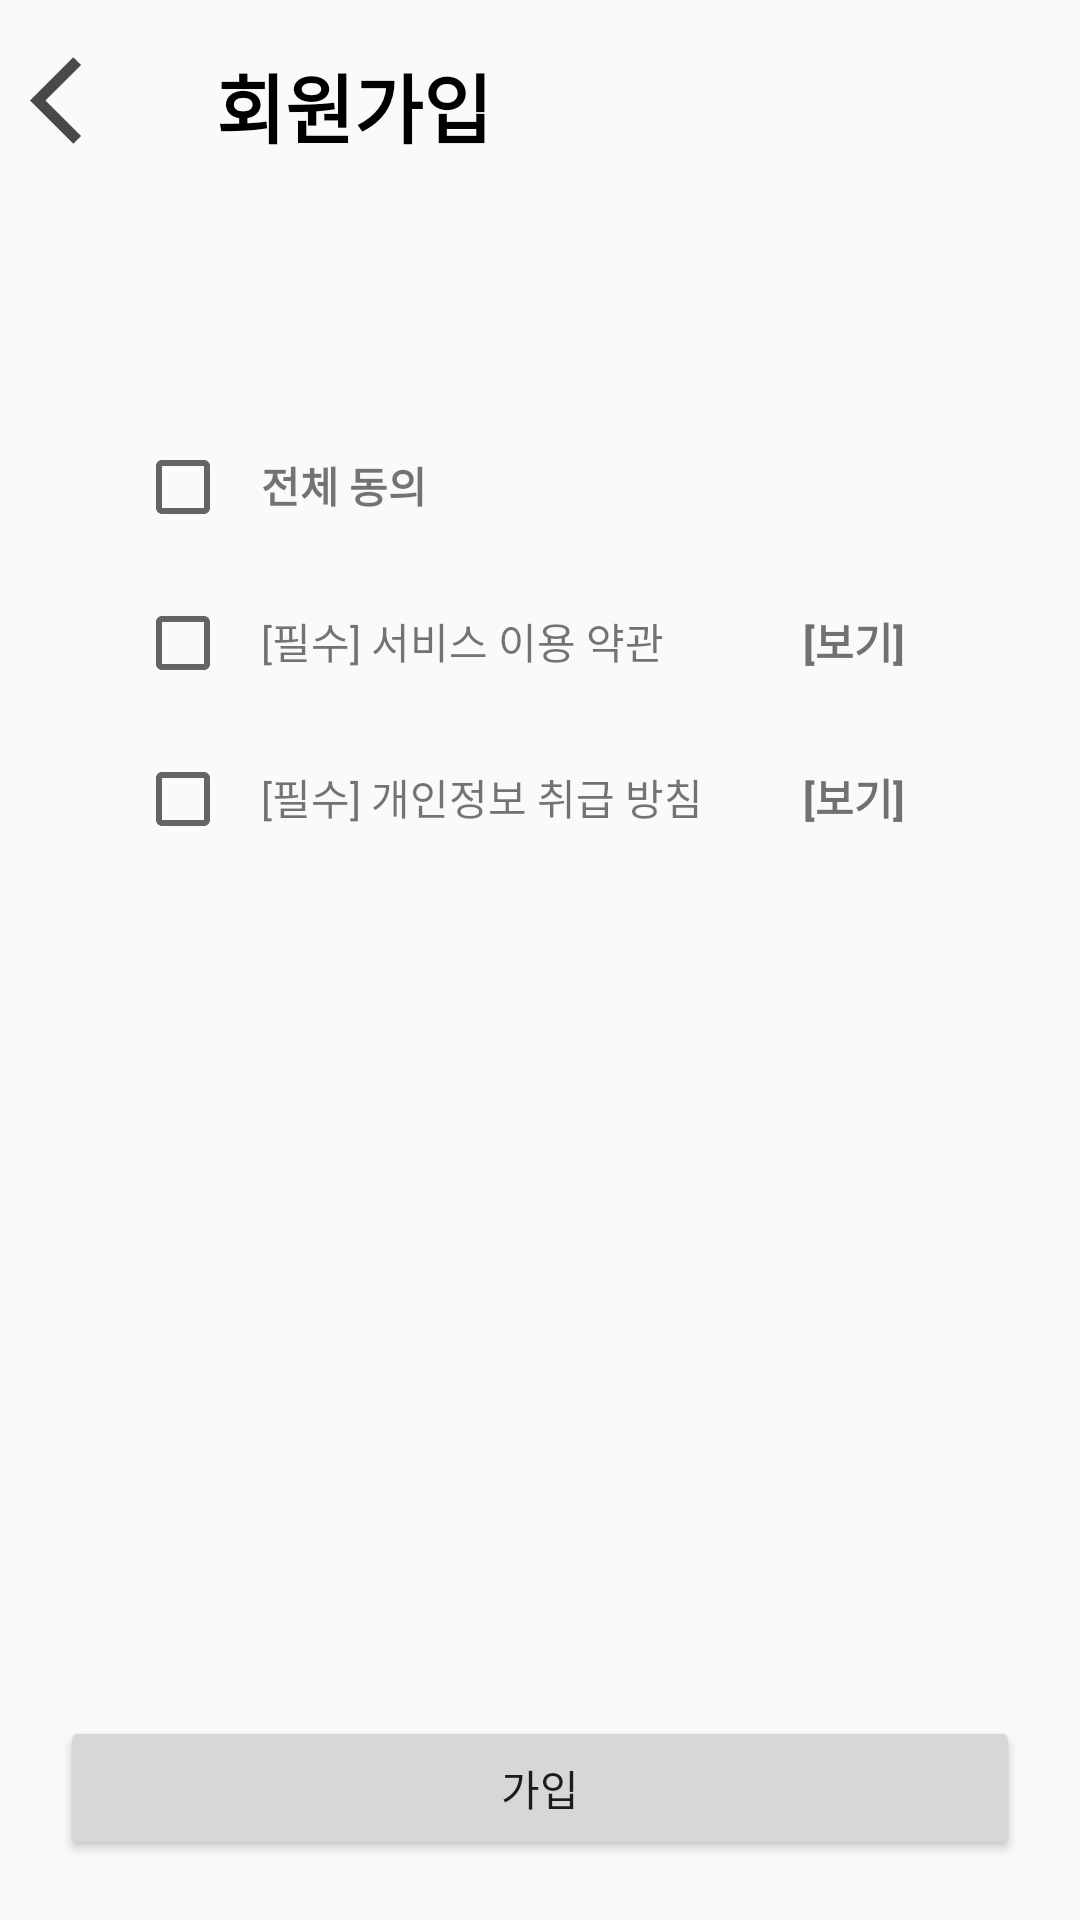

Named icons in this screenshot (1080 × 1920) and their centers, (x,y):
arrow back: (55,100)
